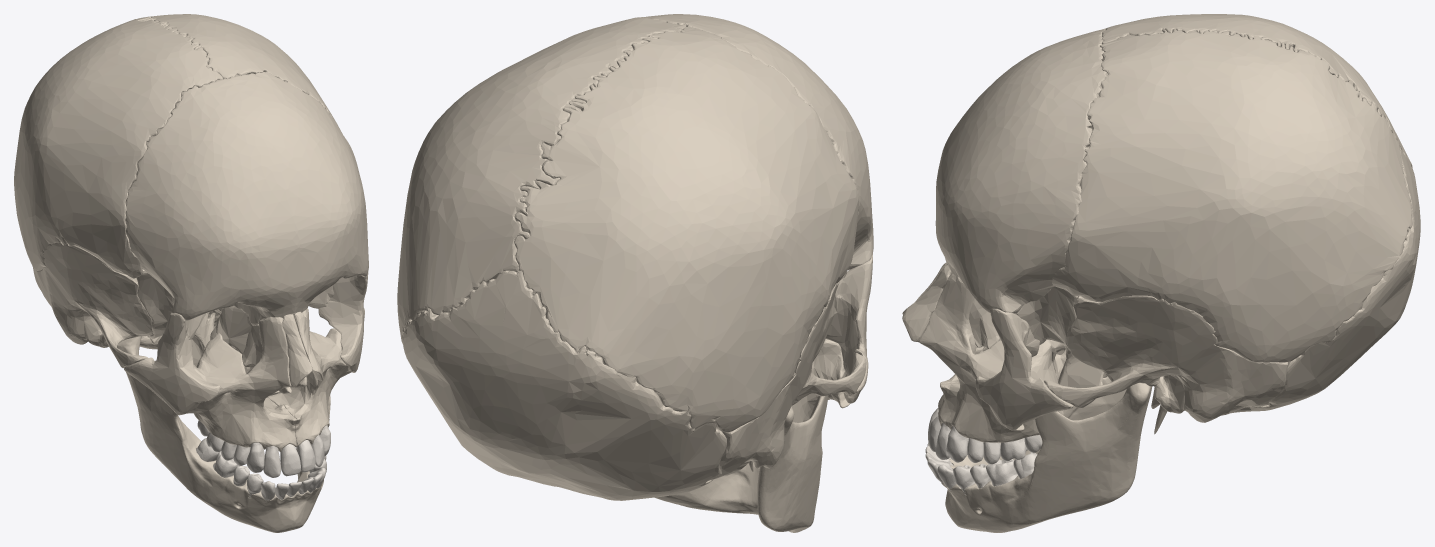
Rendered from class3-before.glb.
3 views of the same model, side by side, from view 1: azimuth 30°, elevation 25°; view 2: azimuth 150°, elevation 25°; view 3: azimuth 270°, elevation 25° (orthographic). The views are drawn at different scales.
Visible parts, largest first — view 1: bone, teeth; view 2: bone; view 3: bone, teeth.
Part boxes in pixels (<box>): bone: <box>14,14,368,532</box>; teeth: <box>196,420,330,501</box>; bone: <box>397,14,873,532</box>; bone: <box>902,14,1420,532</box>; teeth: <box>925,408,1042,494</box>.
Bounding box in the file's own units: 0.1482 × 0.2123 × 0.2035.
